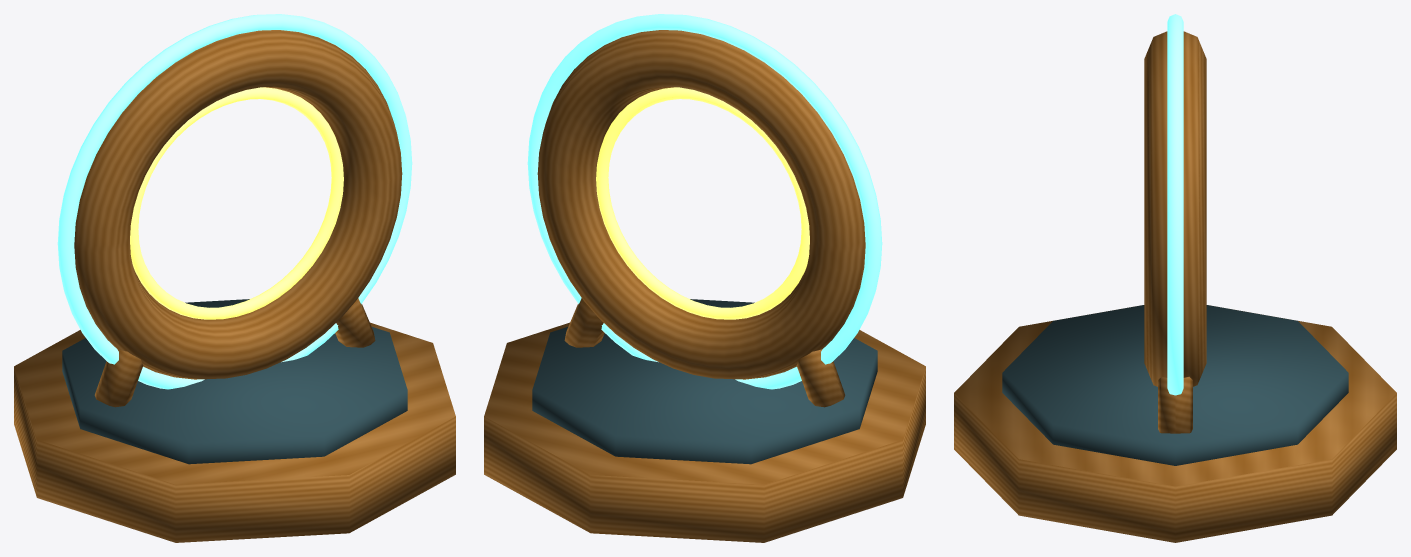
The model's file is goal.glb.
3 views of the same model, side by side, from view 1: azimuth 30°, elevation 25°; view 2: azimuth 150°, elevation 25°; view 3: azimuth 270°, elevation 25° (orthographic). The views are drawn at different scales.
Parts seen in each view (by area): view 1: RF_goal-portal, RF_goal-foot, RF_goal-plinth, RF_goal-halo, RF_goal-inner-light, RF_goal-support, RF_goal-support.001; view 2: RF_goal-portal, RF_goal-foot, RF_goal-plinth, RF_goal-halo, RF_goal-inner-light, RF_goal-support, RF_goal-support.001; view 3: RF_goal-foot, RF_goal-plinth, RF_goal-portal, RF_goal-halo, RF_goal-support.001.
Boxes of the visible parts, box(x1,y1,x2,y2) form: RF_goal-portal: box(74, 30, 402, 379); RF_goal-foot: box(14, 322, 455, 542); RF_goal-plinth: box(62, 299, 407, 464); RF_goal-halo: box(57, 14, 412, 389); RF_goal-inner-light: box(130, 87, 343, 319); RF_goal-support: box(94, 349, 143, 407); RF_goal-support.001: box(335, 298, 375, 347); RF_goal-portal: box(537, 30, 865, 379); RF_goal-foot: box(484, 322, 925, 542); RF_goal-plinth: box(532, 299, 877, 464); RF_goal-halo: box(527, 14, 882, 389); RF_goal-inner-light: box(596, 87, 809, 319); RF_goal-support: box(796, 349, 845, 407); RF_goal-support.001: box(564, 298, 604, 347); RF_goal-foot: box(954, 305, 1396, 542); RF_goal-plinth: box(1002, 305, 1348, 465); RF_goal-portal: box(1144, 31, 1206, 386); RF_goal-halo: box(1167, 14, 1183, 395); RF_goal-support.001: box(1158, 376, 1192, 433).
Size of the model in its own units: 0.64 by 0.665 by 0.64.
4 materials, 1 textured.
